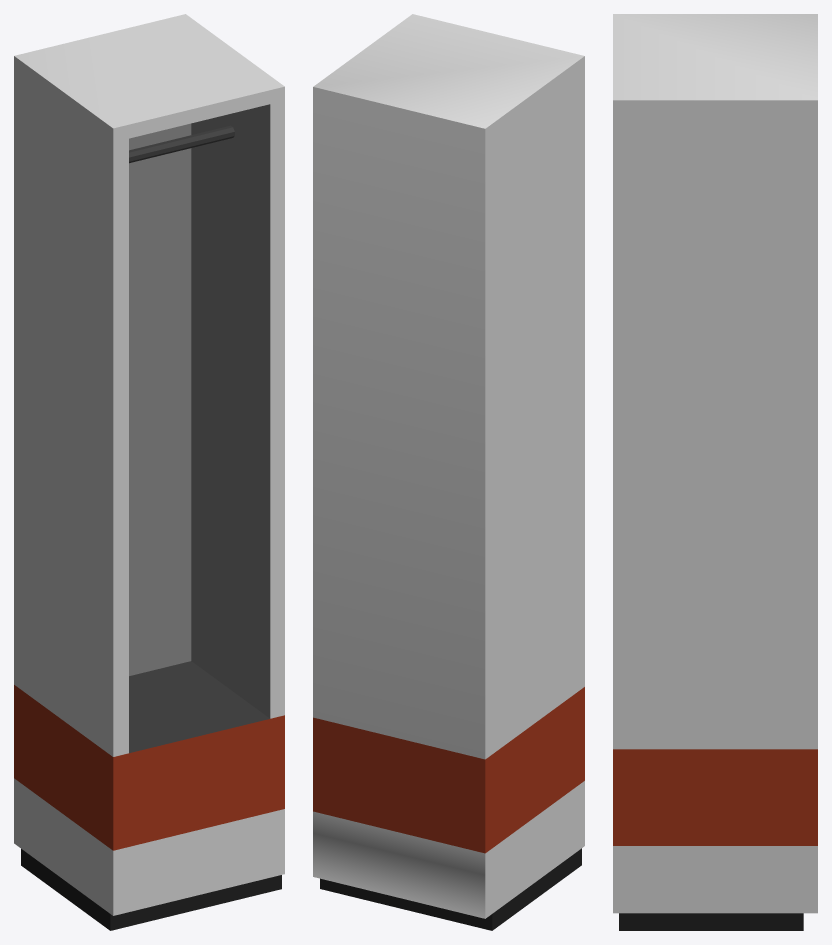
File: drawer_2.glb
The picture shows the model from 3 angles, left to right: view 1: azimuth 30°, elevation 25°; view 2: azimuth 150°, elevation 25°; view 3: azimuth 270°, elevation 25°; orthographic projection. The views are drawn at different scales.
Visible parts, largest first — view 1: Drawer_2; view 2: Drawer_2; view 3: Drawer_2.
Part boxes in pixels (x1,y1,x2,y2): Drawer_2: (14, 14, 284, 930); Drawer_2: (313, 14, 584, 930); Drawer_2: (613, 14, 817, 930).
Bounding box in the file's own units: 0.4061 × 1.82 × 0.4063.
Materials: 1 (1 with a texture image).
